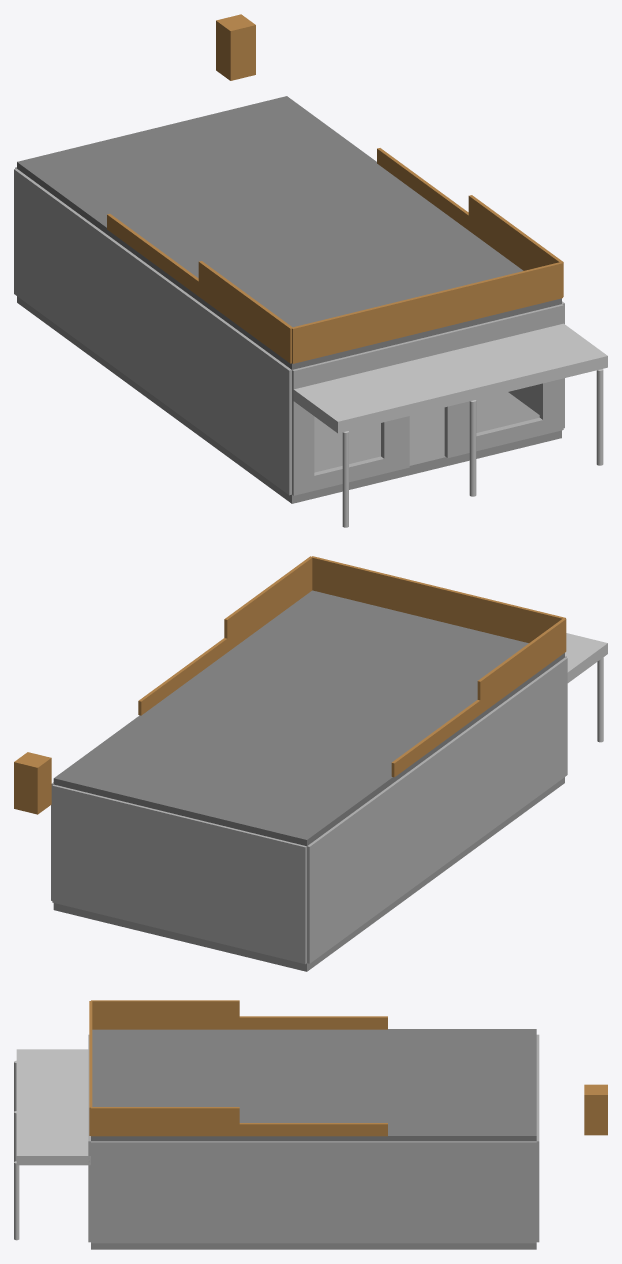
File: building_phase_1a_iter_006.glb
The picture shows the model from 3 angles, top to bottom: view 1: azimuth 30°, elevation 25°; view 2: azimuth 150°, elevation 25°; view 3: azimuth 270°, elevation 25°; orthographic projection. The views are drawn at different scales.
Parts seen in each view (by area): view 1: Roof, Wall_Left, Canopy_Roof, Wall_Front, Parapet_Front, Foundation, Parapet_Left_Front, Parapet_Right_Front, Chimney, Parapet_Left_Middle, Parapet_Right_Middle, Canopy_Post_2 (+1 smaller); view 2: Roof, Wall_Left, Wall_Rear, Parapet_Front, Foundation, Parapet_Left_Front, Parapet_Right_Front, Chimney, Parapet_Left_Middle, Parapet_Right_Middle, Canopy_Roof, Canopy_Post_1; view 3: Wall_Right, Roof, Canopy_Roof, Parapet_Right_Front, Parapet_Left_Front, Foundation, Parapet_Left_Middle, Parapet_Right_Middle, Chimney, Wall_Rear, Wall_Front, Parapet_Front (+1 smaller).
Part boxes in pixels (bbox=[...]): Roof: bbox=[17, 96, 561, 369]; Wall_Left: bbox=[14, 168, 291, 495]; Canopy_Roof: bbox=[293, 323, 607, 433]; Wall_Front: bbox=[292, 304, 563, 495]; Parapet_Front: bbox=[292, 262, 562, 363]; Foundation: bbox=[17, 296, 561, 503]; Parapet_Left_Front: bbox=[198, 261, 292, 363]; Parapet_Right_Front: bbox=[468, 195, 563, 296]; Chimney: bbox=[216, 14, 255, 80]; Parapet_Left_Middle: bbox=[107, 214, 198, 296]; Parapet_Right_Middle: bbox=[377, 148, 468, 230]; Canopy_Post_2: bbox=[469, 400, 476, 496]; Roof: bbox=[53, 590, 564, 846]; Wall_Left: bbox=[307, 657, 567, 963]; Wall_Rear: bbox=[52, 784, 306, 964]; Parapet_Front: bbox=[312, 556, 565, 642]; Foundation: bbox=[53, 777, 564, 971]; Parapet_Left_Front: bbox=[477, 618, 566, 714]; Parapet_Right_Front: bbox=[224, 556, 312, 652]; Chimney: bbox=[14, 752, 51, 814]; Parapet_Left_Middle: bbox=[391, 700, 480, 777]; Parapet_Right_Middle: bbox=[138, 638, 227, 715]; Canopy_Roof: bbox=[565, 633, 607, 682]; Canopy_Post_1: bbox=[597, 657, 603, 742]; Wall_Right: bbox=[91, 1141, 536, 1243]; Roof: bbox=[91, 1029, 536, 1141]; Canopy_Roof: bbox=[16, 1049, 90, 1165]; Parapet_Right_Front: bbox=[91, 1107, 239, 1136]; Parapet_Left_Front: bbox=[91, 1000, 239, 1029]; Foundation: bbox=[91, 1243, 536, 1249]; Parapet_Left_Middle: bbox=[239, 1016, 387, 1029]; Parapet_Right_Middle: bbox=[239, 1123, 387, 1136]; Chimney: bbox=[584, 1084, 607, 1135]; Wall_Rear: bbox=[536, 1034, 539, 1242]; Wall_Front: bbox=[88, 1034, 90, 1242]; Parapet_Front: bbox=[89, 1001, 92, 1135].
Size of the model in its own units: 8.68 by 5.73 by 19.99.
